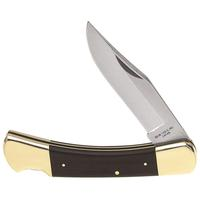knife: (79, 18, 188, 153)
